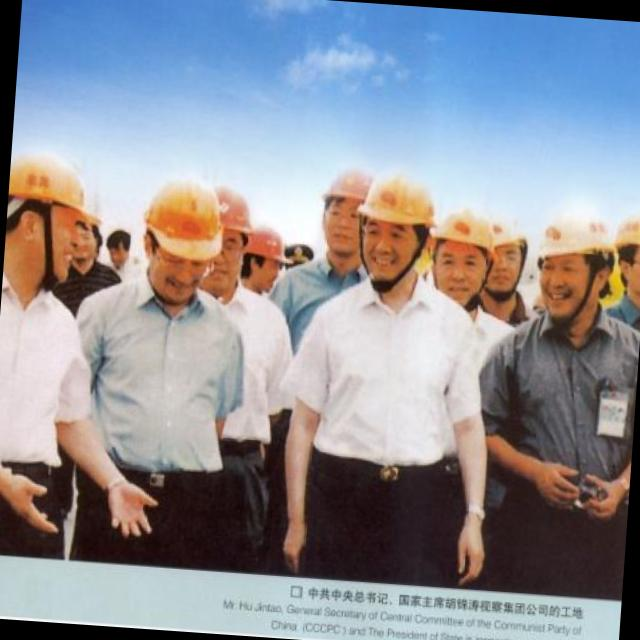helmet: (1, 136, 100, 300), (129, 165, 225, 302), (526, 205, 618, 333), (353, 162, 437, 284), (426, 198, 502, 311), (309, 155, 380, 273), (479, 208, 533, 308), (209, 194, 252, 287), (240, 226, 290, 302), (615, 203, 640, 320)
